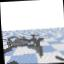drone: (1, 33, 43, 60)
